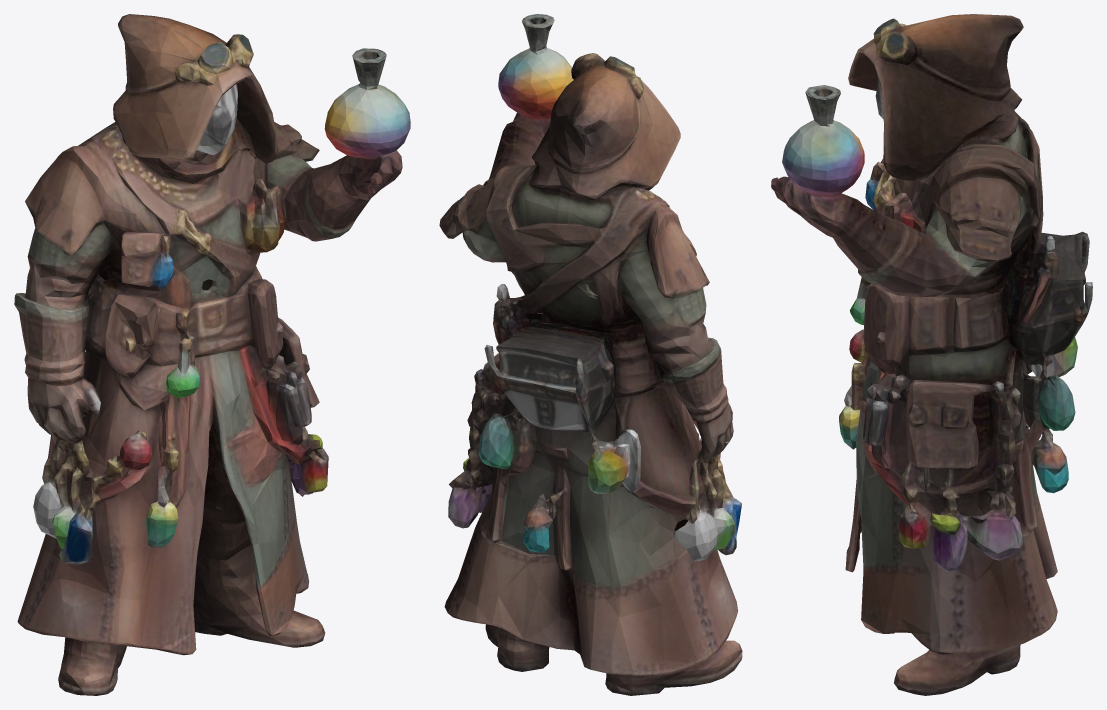
File: quickTransmuter.glb
3 renders of one model, left to right at view 1: azimuth 30°, elevation 25°; view 2: azimuth 150°, elevation 25°; view 3: azimuth 270°, elevation 25°, orthographic. The views are drawn at different scales.
Parts seen in each view (by area): view 1: world; view 2: world; view 3: world.
Boxes of the visible parts, left/top/right/bottom form: world: left=14, top=14, right=410, bottom=695; world: left=439, top=14, right=742, bottom=695; world: left=771, top=14, right=1092, bottom=695.
Bounding box in the file's own units: 0.5107 × 0.9986 × 0.4702.
1 material, 1 textured.
